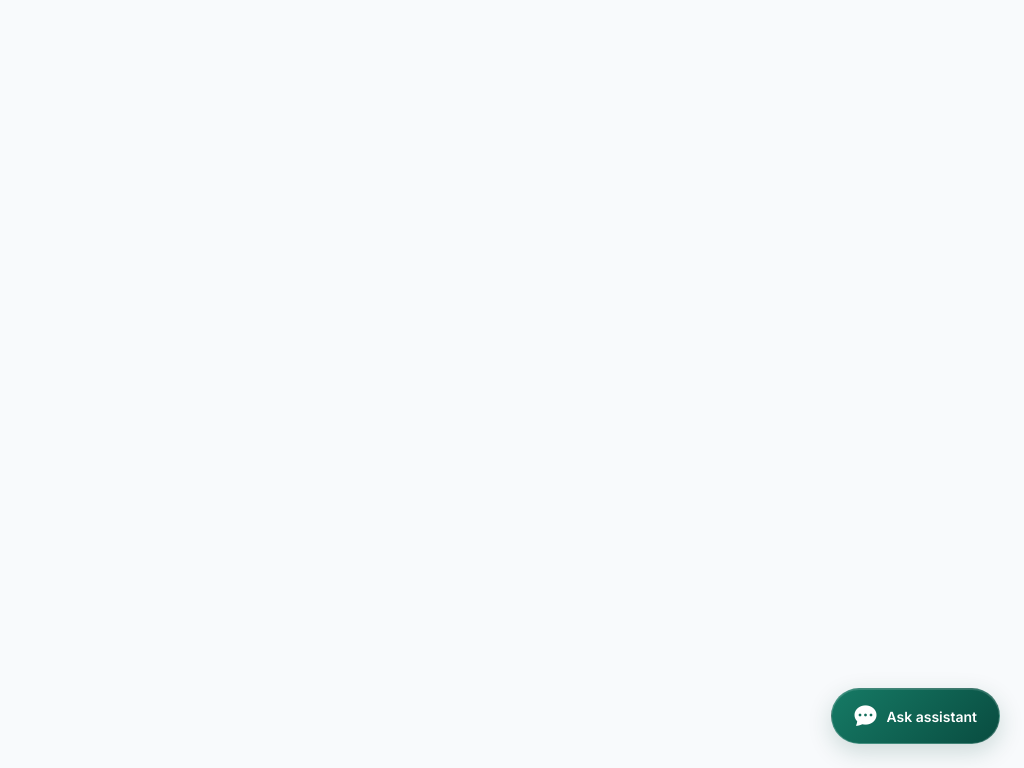
it: AssistantWidget component › shows the signed-in account privacy notice when personalized features are available
Click the button with aria-label "open portal assistant": click(916, 716) top-left (831, 688), bottom-right (1000, 744)
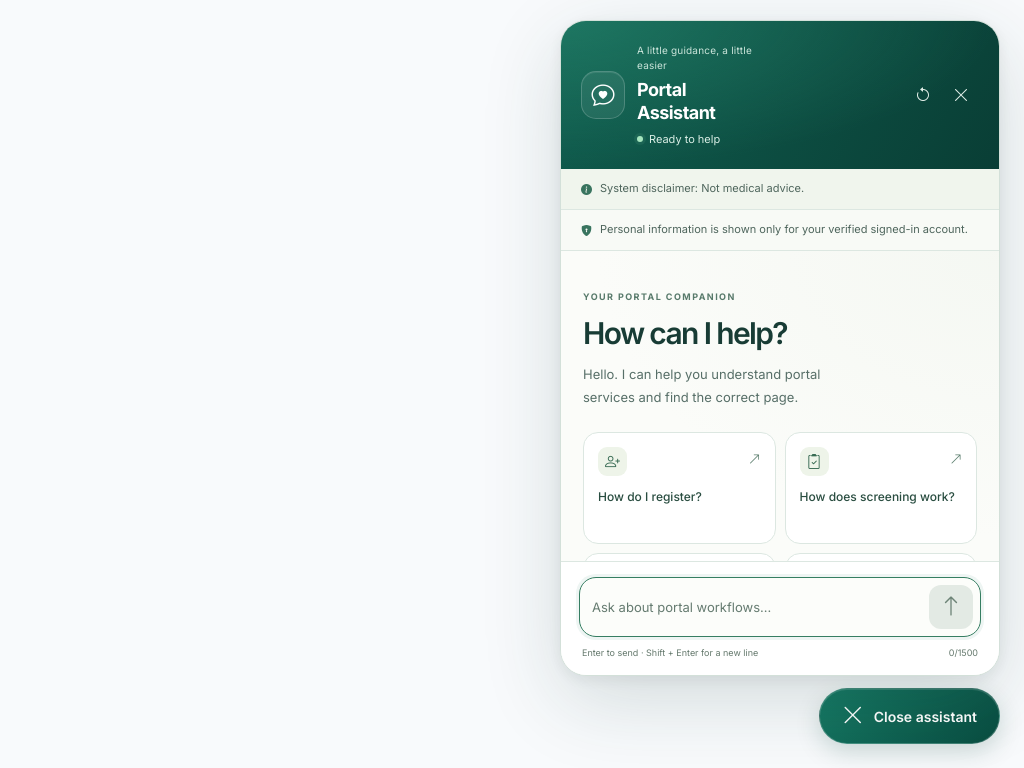
Check: the text box with placeholder "Ask about portal workflows..." is shown, box top-left (587, 586), bottom-right (921, 628)
Check: the text "Personal information is shown only for your verified signed-in account" is shown, box top-left (600, 222), bottom-right (968, 236)
